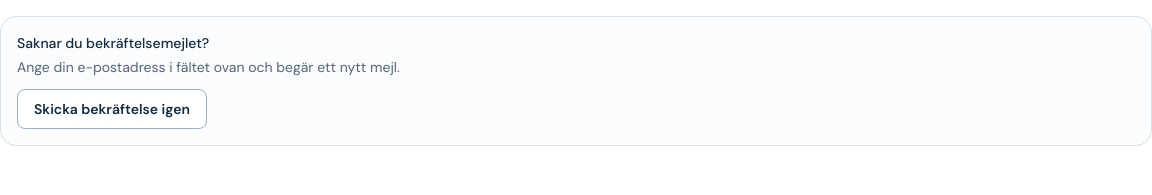
Test: resends signup confirmation to the typed address with cooldown, without a password reset
Click the button "Skicka bekräftelse igen".
click(112, 109)  # box top-left (17, 89), bottom-right (207, 129)
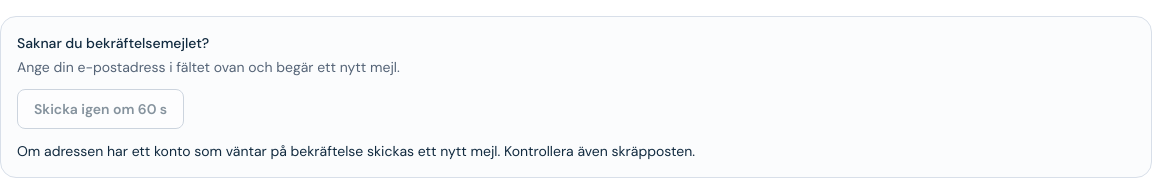
Now the message shows "väntar på bekräftelse", box top-left (17, 142), bottom-right (695, 160)
Now the button "Skicka igen om 60 s" is disabled, box top-left (17, 89), bottom-right (184, 129)
